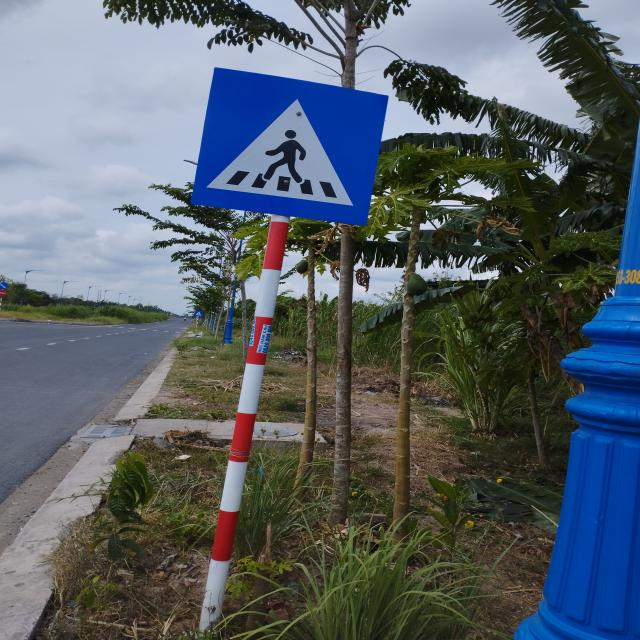Giao_Nhau_Duong_Uu_Tien: (190, 68, 389, 226)
